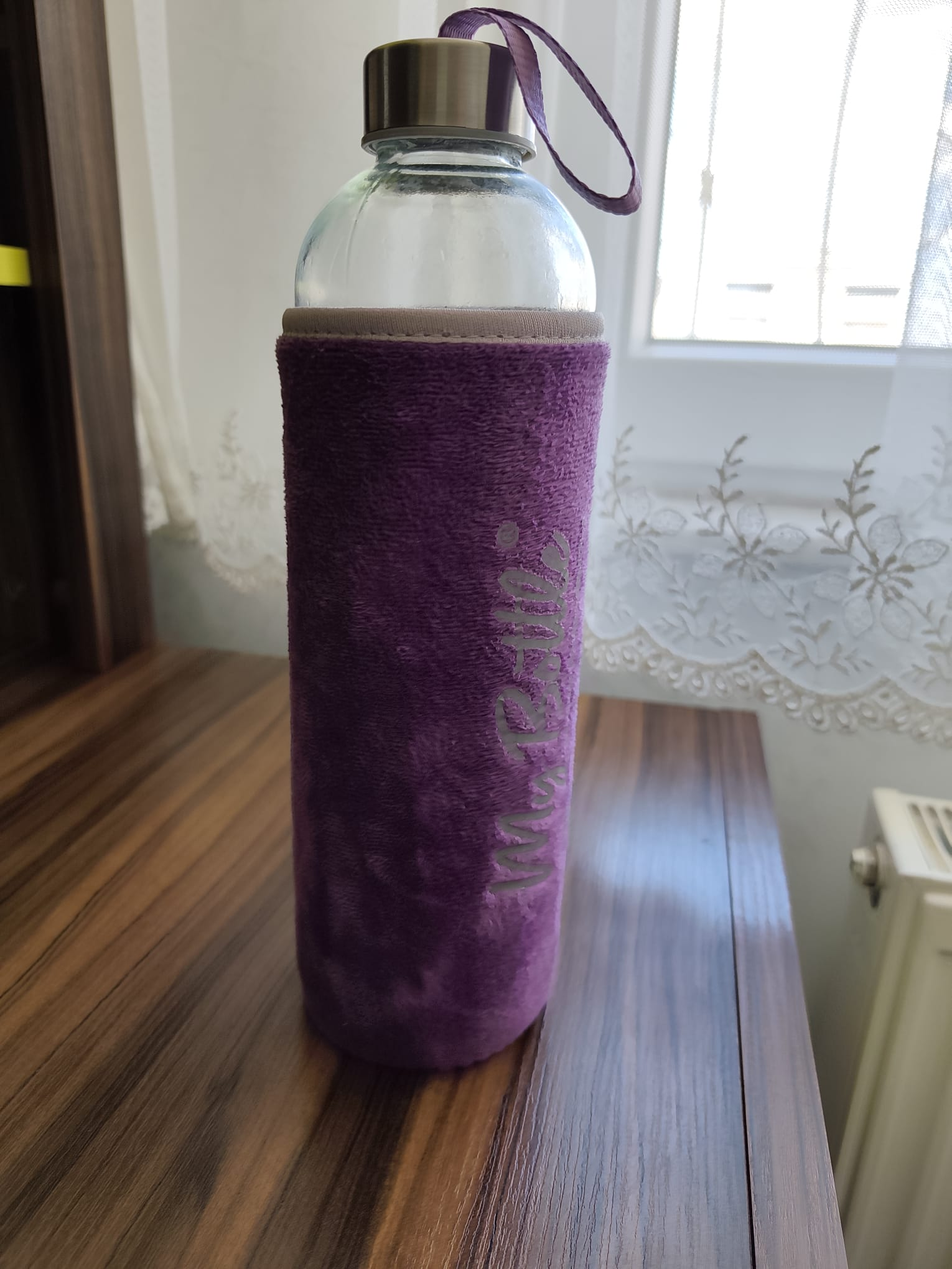su_sisesi: (268, 0, 638, 1111)
